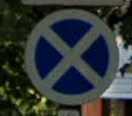oprirea_interzisa: (22, 5, 125, 111)
